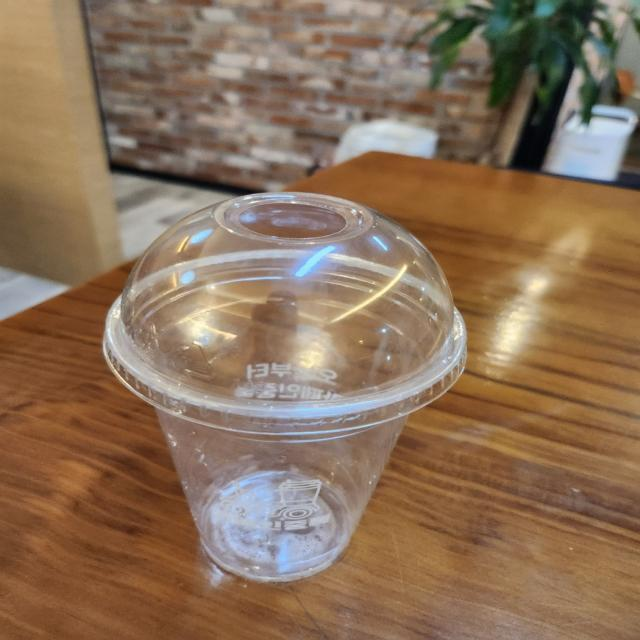plastic_cup_lid: (93, 178, 475, 440)
